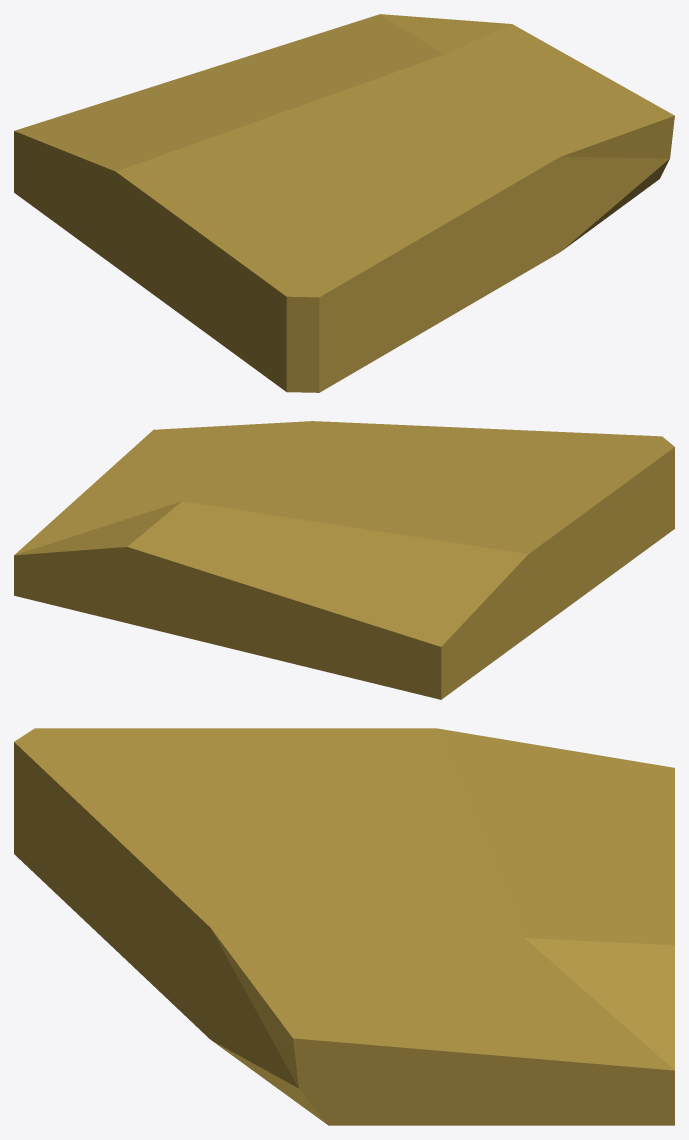
File: plitka3_2.fbx
The picture shows the model from 3 angles, top to bottom: view 1: azimuth 30°, elevation 25°; view 2: azimuth 150°, elevation 25°; view 3: azimuth 270°, elevation 25°; orthographic projection. The views are drawn at different scales.
Parts seen in each view (by area): view 1: Cube.001; view 2: Cube.001; view 3: Cube.001.
Part boxes in pixels (left/top/right/bottom): Cube.001: left=14, top=14, right=674, bottom=392; Cube.001: left=14, top=421, right=674, bottom=699; Cube.001: left=14, top=728, right=674, bottom=1125.
Size of the model in its own units: 20.74 by 3.8 by 20.3.
